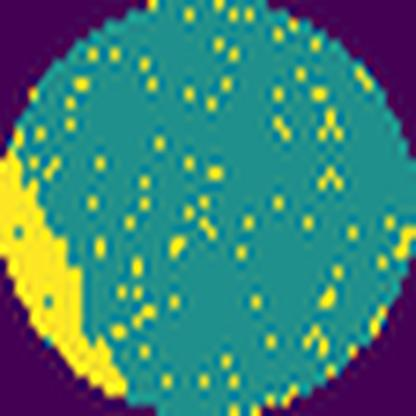Edge-Loc: (0, 119, 134, 403)
